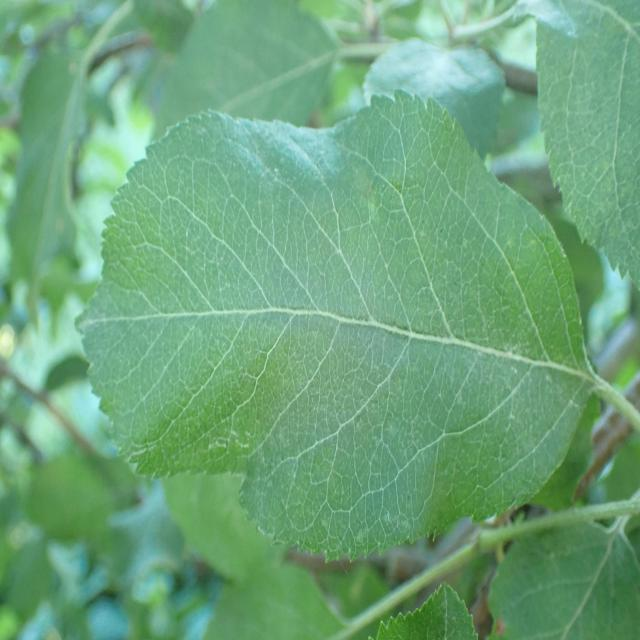scab: (115, 176, 570, 517)
